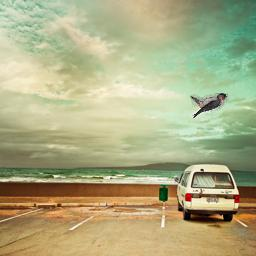Swallow: (190, 93, 229, 118)
